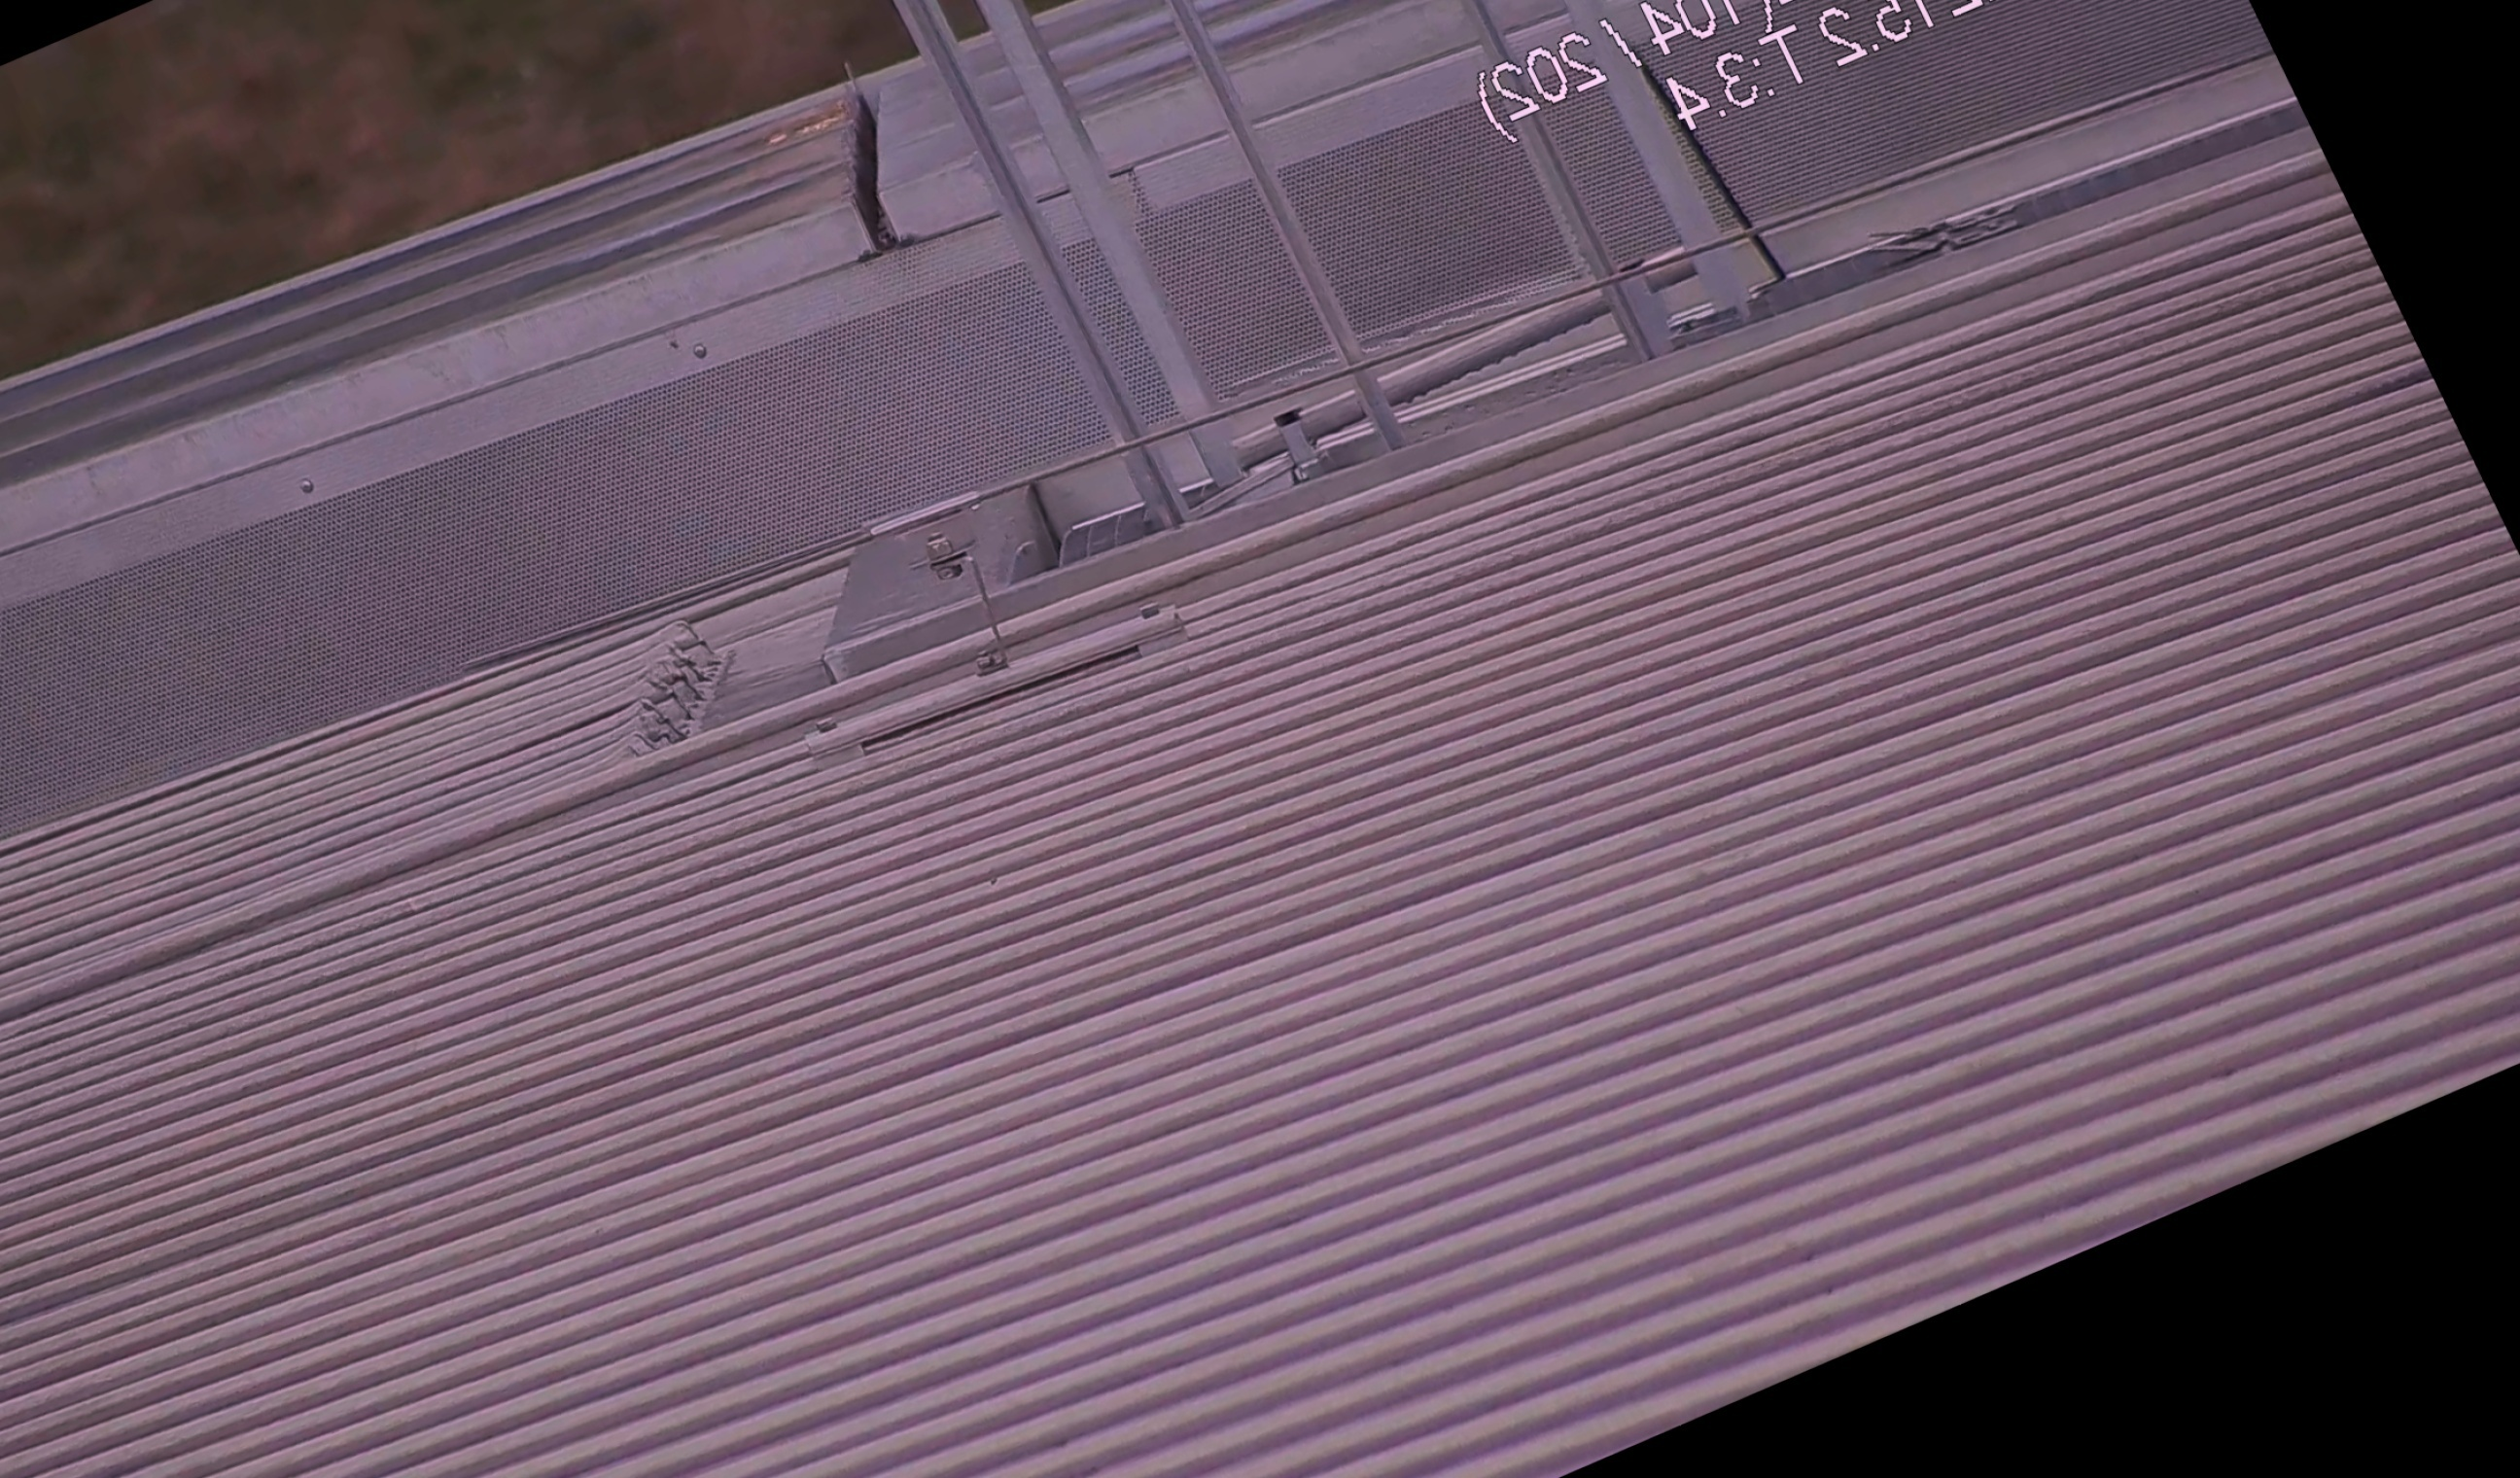Other: (774, 56, 953, 266)
